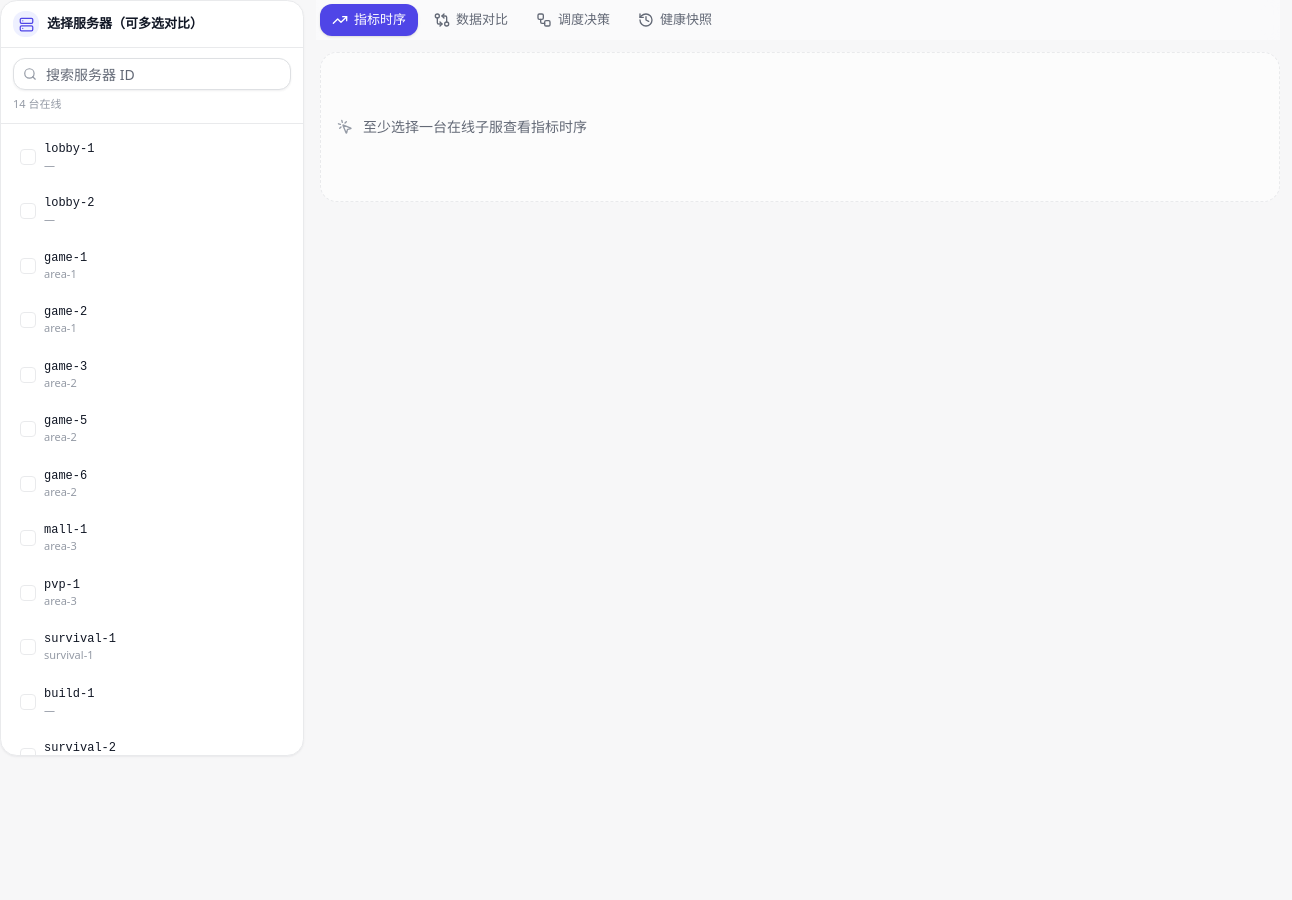
Scenario: /service-analysis 服务分析页 › 勾选服务器后展示指标时序区
Expected: the text "选择服务器（可多选对比）" is shown, [47,14,203,32]
Step 1. Click the checkbox labelled "lobby-1 —" → (69,148), box [9,132,295,182]
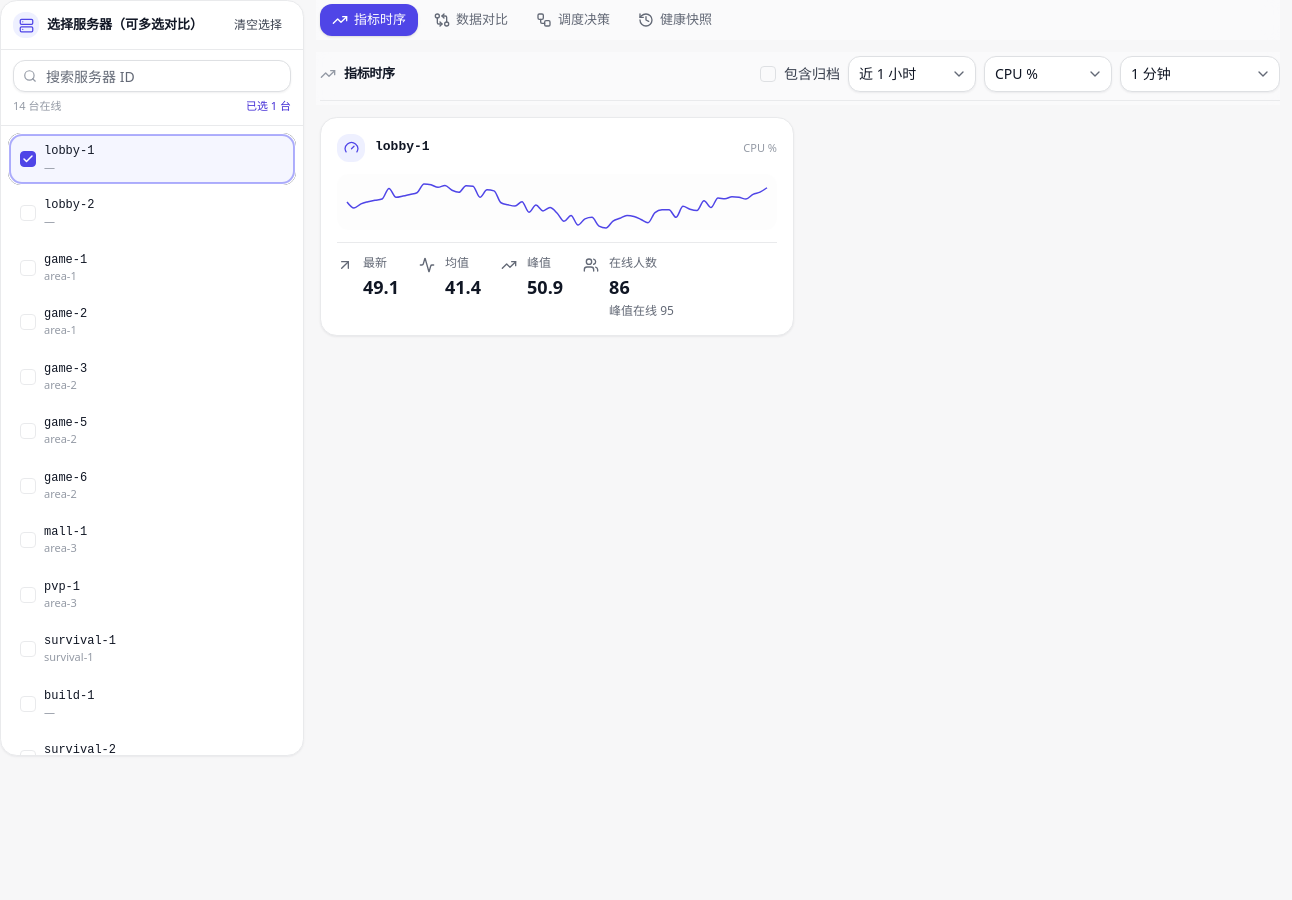
Expected: the dropdown named "指标" is shown, [984,56,1112,92]
